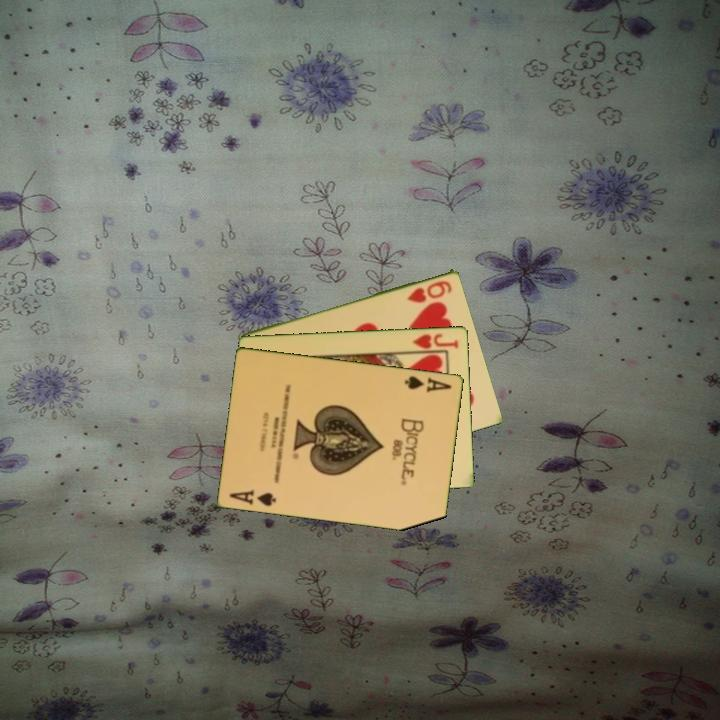6h: (404, 277, 455, 305)
As: (402, 372, 455, 395), (226, 486, 279, 509)
Jh: (406, 330, 461, 354)
